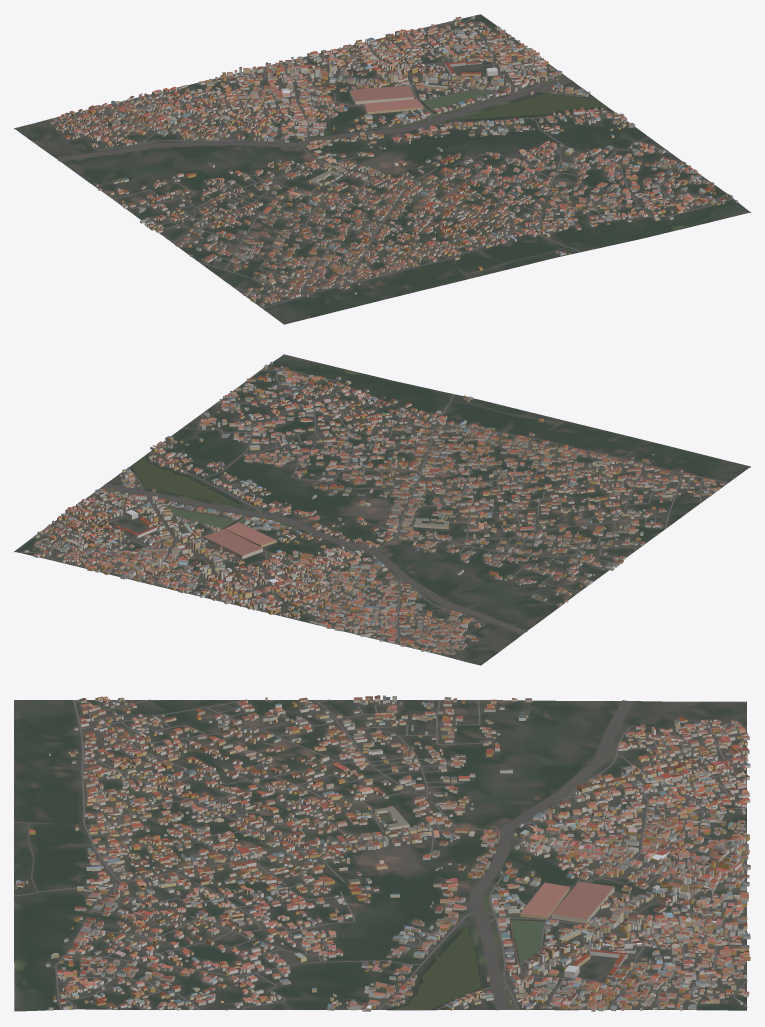
3 views of the same model, one above another, from view 1: azimuth 30°, elevation 25°; view 2: azimuth 150°, elevation 25°; view 3: azimuth 270°, elevation 25° (orthographic). The views are drawn at different scales.
Parts seen in each view (by area): view 1: ground, buildings, roads, water; view 2: ground, buildings, roads, water; view 3: ground, buildings, roads, water.
Boxes of the visible parts, x1,y1,x2,y2 form: ground: (14,14,750,324); buildings: (48,16,738,306); roads: (54,15,733,308); water: (56,91,715,215); ground: (14,354,750,665); buildings: (24,361,724,654); roads: (18,366,728,654); water: (131,365,496,641); ground: (14,700,746,1011); buildings: (15,695,750,1011); roads: (14,699,747,1010); water: (29,710,669,1009).
Size of the model in its own units: 1416 by 28.86 by 1410.
